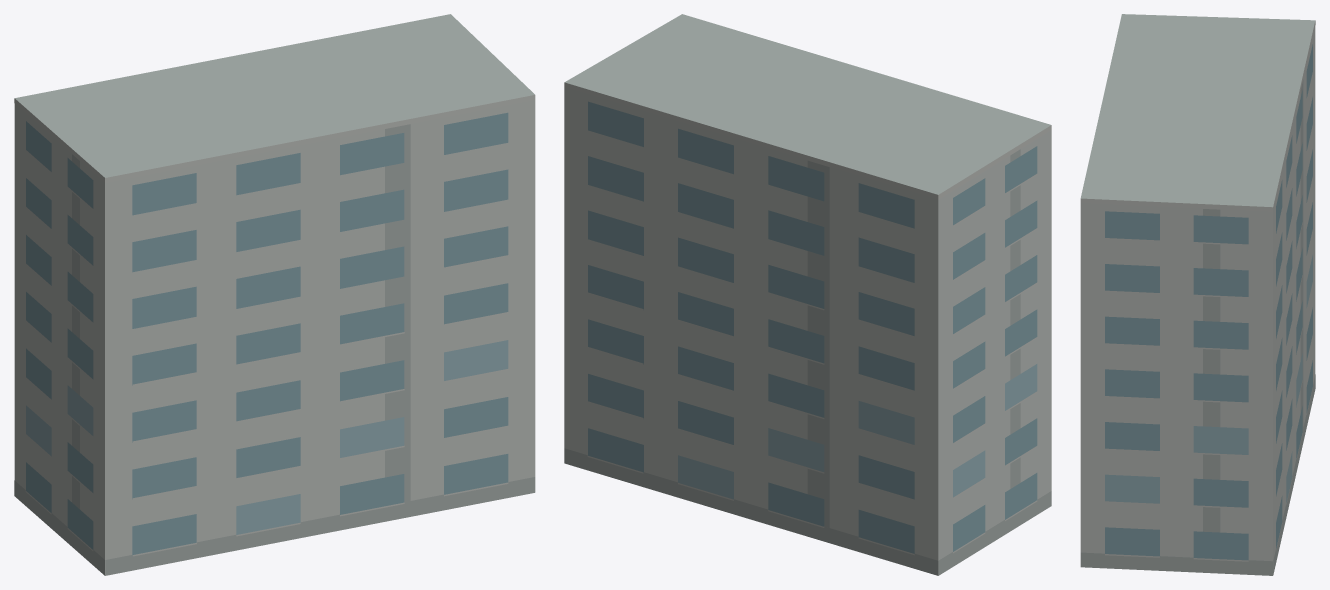
The model's file is survey-upis-32764709.glb.
3 renders of one model, left to right at view 1: azimuth 30°, elevation 25°; view 2: azimuth 150°, elevation 25°; view 3: azimuth 270°, elevation 25°, orthographic. The views are drawn at different scales.
Visible parts, largest first — view 1: survey-upis-32764709.tmp; view 2: survey-upis-32764709.tmp; view 3: survey-upis-32764709.tmp.
Boxes of the visible parts, left/top/right/bottom form: survey-upis-32764709.tmp: left=14, top=14, right=535, bottom=575; survey-upis-32764709.tmp: left=564, top=14, right=1051, bottom=575; survey-upis-32764709.tmp: left=1080, top=14, right=1315, bottom=575.
Bounding box in the file's own units: 20.91 × 18.6 × 10.75.
